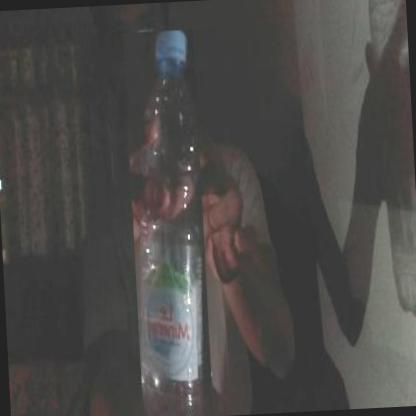plastic_bottles: (123, 28, 214, 416)
